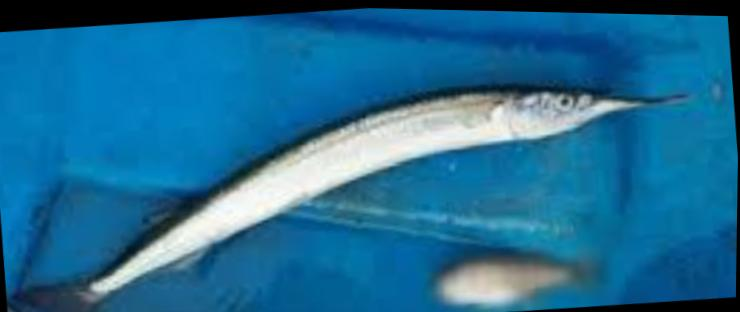fish: (12, 80, 691, 312)
